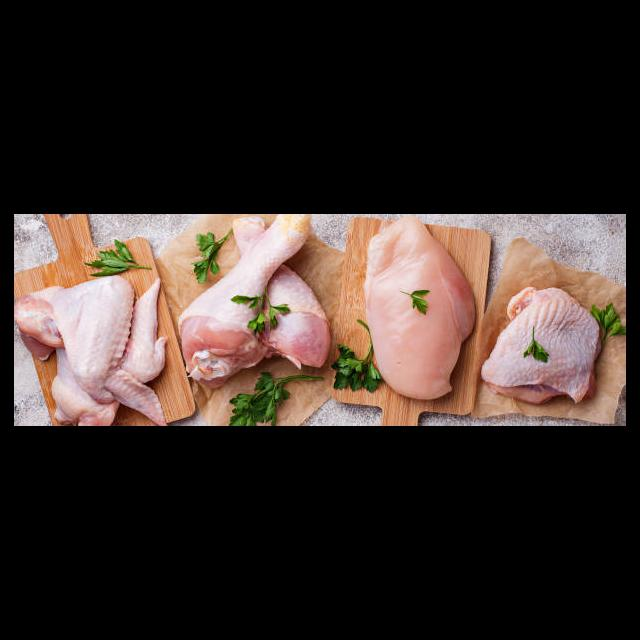chicken: (178, 214, 334, 388), (14, 274, 172, 426), (360, 219, 477, 403), (482, 286, 604, 407)
